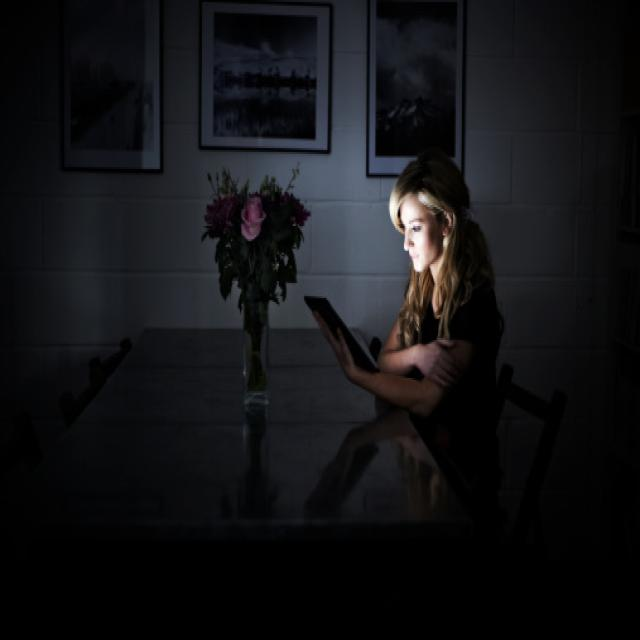People: (343, 162, 542, 461)
Table: (49, 280, 393, 629)
